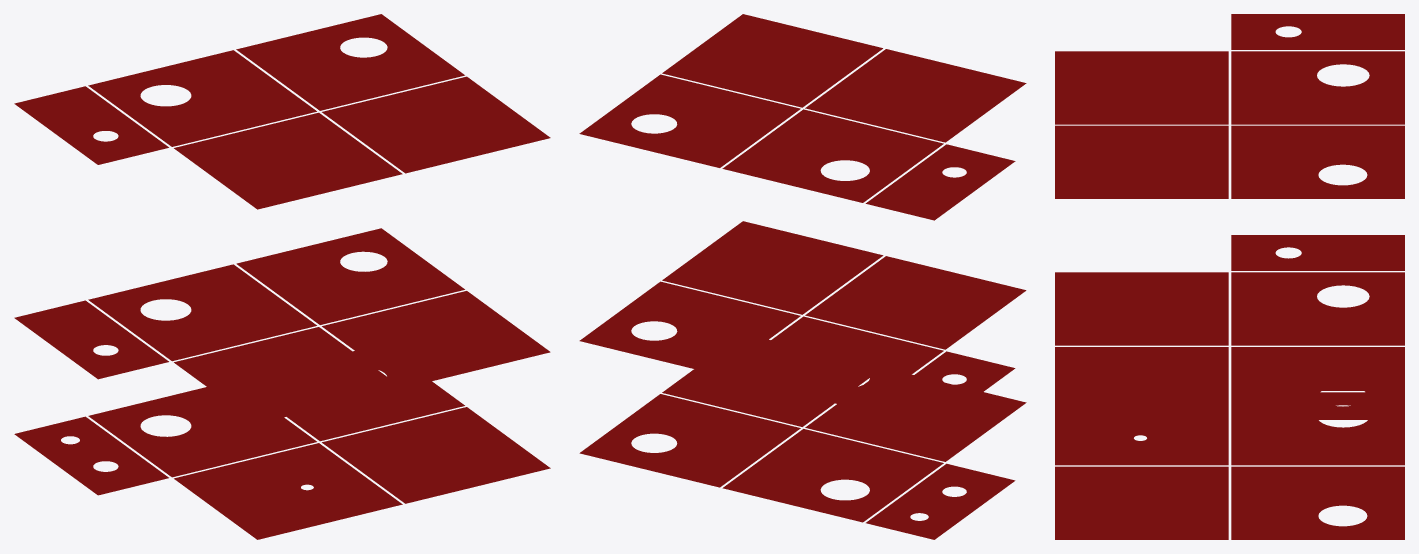
File: Grating.FBX
The picture shows the model from 3 angles, left to right: view 1: azimuth 30°, elevation 25°; view 2: azimuth 150°, elevation 25°; view 3: azimuth 270°, elevation 25°; orthographic projection. The views are drawn at different scales.
Visible parts, largest first — view 1: Grating_3F, Grating_4F, Grating_2F; view 2: Grating_4F, Grating_3F, Grating_2F; view 3: Grating_4F, Grating_3F, Grating_2F.
Part boxes in pixels (x1=…): Grating_3F: x1=14, y1=228, x2=550, y2=423; Grating_4F: x1=14, y1=14, x2=550, y2=209; Grating_2F: x1=14, y1=351, x2=550, y2=539; Grating_4F: x1=579, y1=14, x2=1026, y2=220; Grating_3F: x1=579, y1=221, x2=1026, y2=427; Grating_2F: x1=579, y1=339, x2=1026, y2=539; Grating_4F: x1=1055, y1=14, x2=1404, y2=198; Grating_3F: x1=1055, y1=235, x2=1404, y2=419; Grating_2F: x1=1055, y1=385, x2=1404, y2=539.
Bounding box in the file's own units: 14899 × 12800 × 11899.
